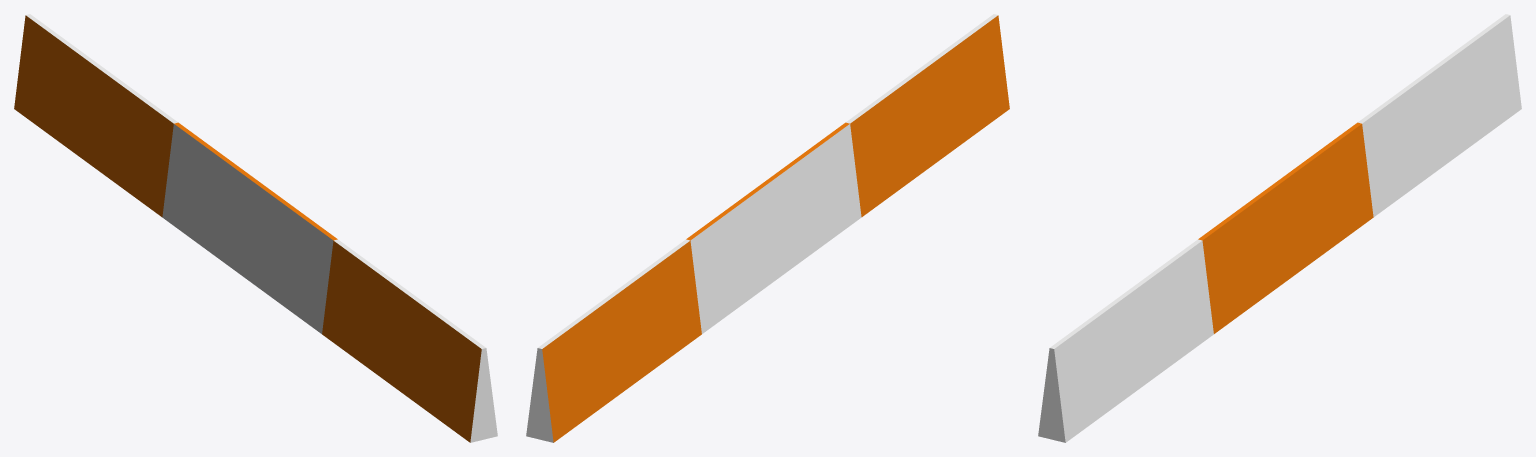
Rendered from BarrierC.fbx.
3 renders of one model, left to right at view 1: azimuth 30°, elevation 25°; view 2: azimuth 150°, elevation 25°; view 3: azimuth 330°, elevation 25°, orthographic.
Parts seen in each view (by area): view 1: BarrierC; view 2: BarrierC; view 3: BarrierC.
Boxes of the visible parts, box(x1,y1,x2,y2) form: BarrierC: box(14, 14, 497, 442); BarrierC: box(526, 14, 1009, 442); BarrierC: box(1038, 14, 1521, 442).
Size of the model in its own units: 17.45 by 55.11 by 500.
Materials: 1 (1 with a texture image).
